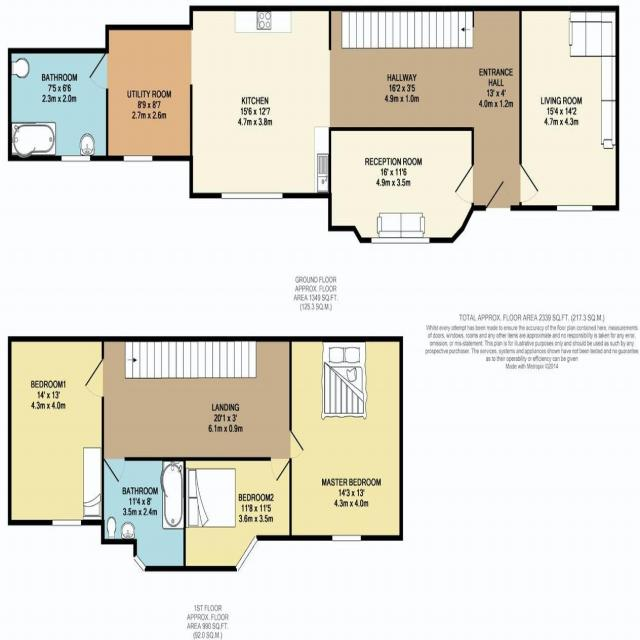DOOR: (84, 357, 105, 399), (485, 179, 512, 211), (454, 163, 474, 204), (519, 163, 539, 203), (89, 52, 109, 90), (103, 456, 125, 484), (270, 456, 290, 482), (289, 429, 305, 459)
ROOM: (87, 5, 540, 212), (289, 336, 403, 541), (519, 5, 620, 211), (8, 336, 104, 526), (328, 126, 474, 244), (183, 456, 292, 572)
WINDOW: (234, 534, 259, 574), (221, 192, 283, 200), (370, 237, 430, 244), (556, 204, 593, 212), (133, 553, 147, 573), (52, 519, 82, 527), (123, 155, 153, 162), (61, 155, 91, 162), (332, 534, 362, 541)
